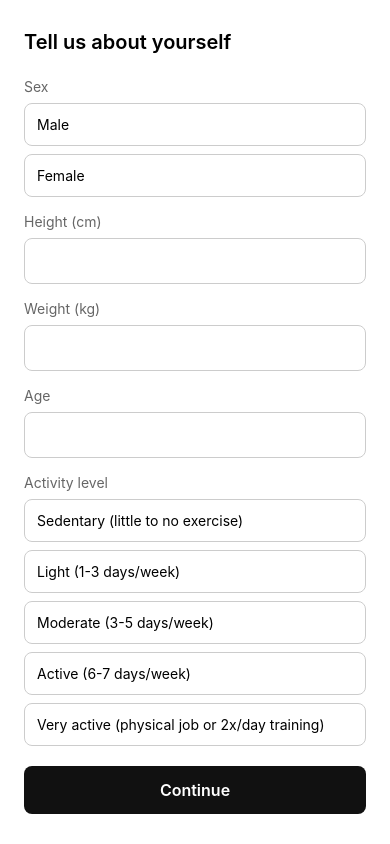
Test: BodyStatsScreen › rejects age over 120
The width and height of the screenshot is (390, 844).
Click the element with test id "sex-option-female": [195, 176] box [24,154,366,197]
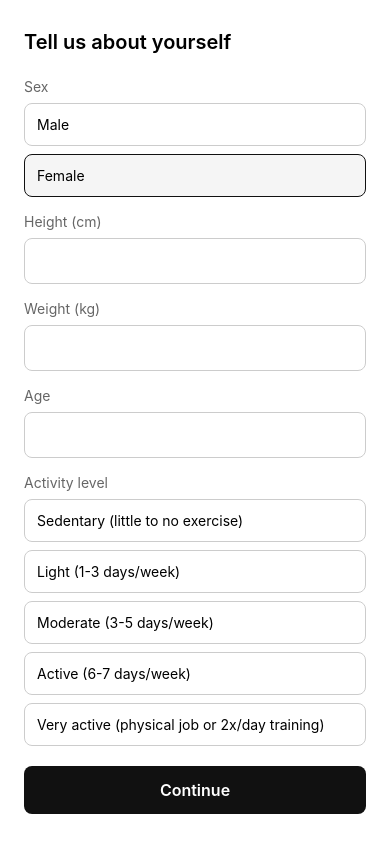
In the field with test id "height-input": [195, 261] box [24,238,366,284], type "170"
In the field with test id "weight-input": [195, 348] box [24,325,366,371], type "65"
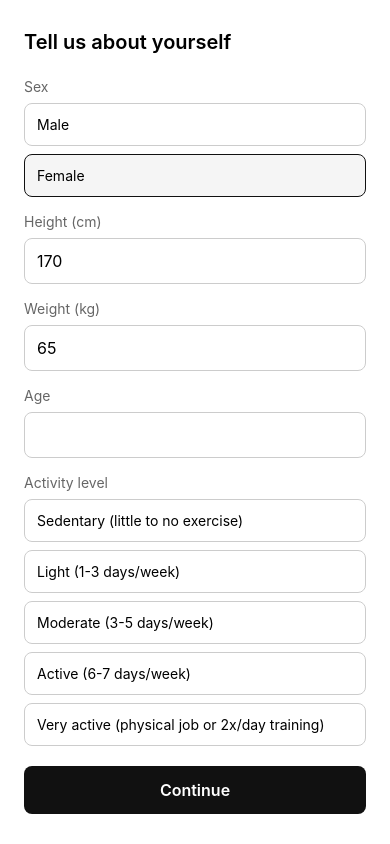
In the field with test id "age-input": [195, 435] box [24,412,366,458], type "35"
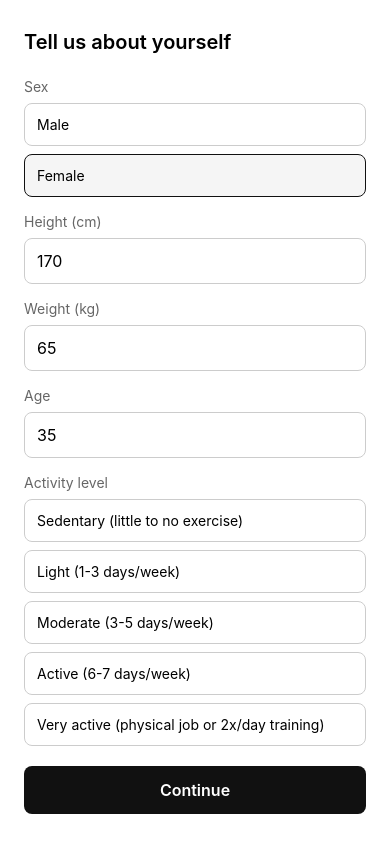
Click the element with test id "activity-level-option-moderate": [195, 622] box [24,601,366,644]
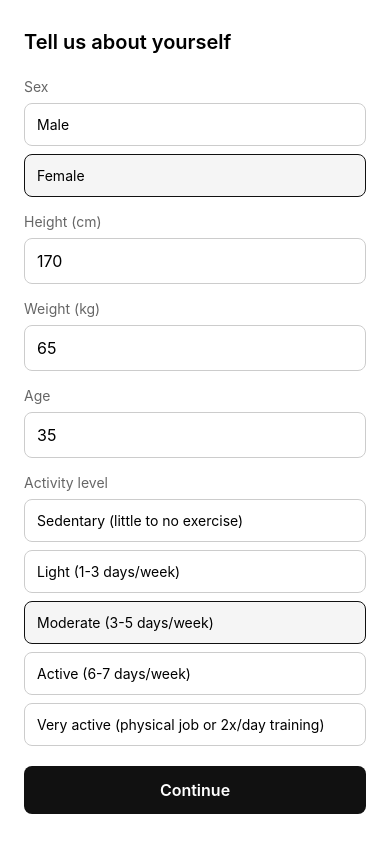
Replace the text in the field with test id "age-input" with "121": [195, 435] box [24,412,366,458]
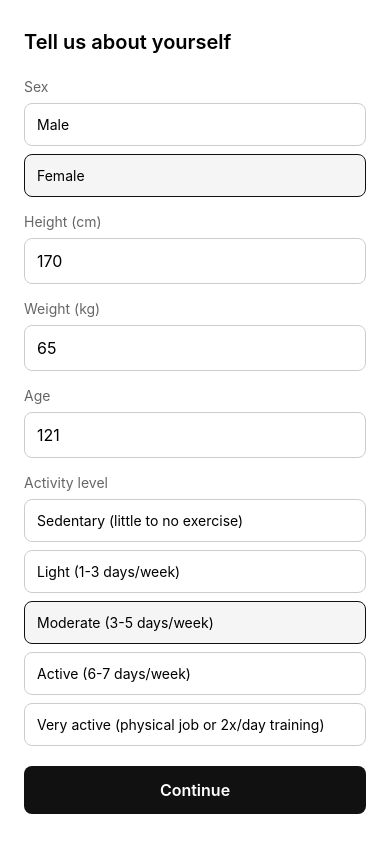
Click the element with test id "body-stats-continue-button": [195, 790] box [24,766,366,814]
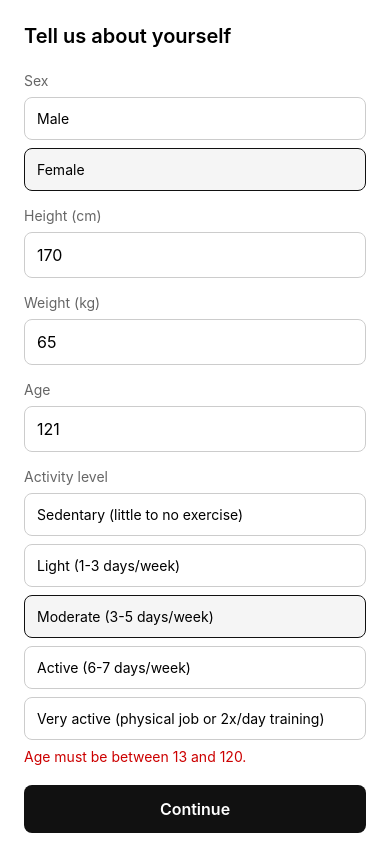
Result: the text "Age must be between 13 and 120." is shown at [24,748,246,765]
